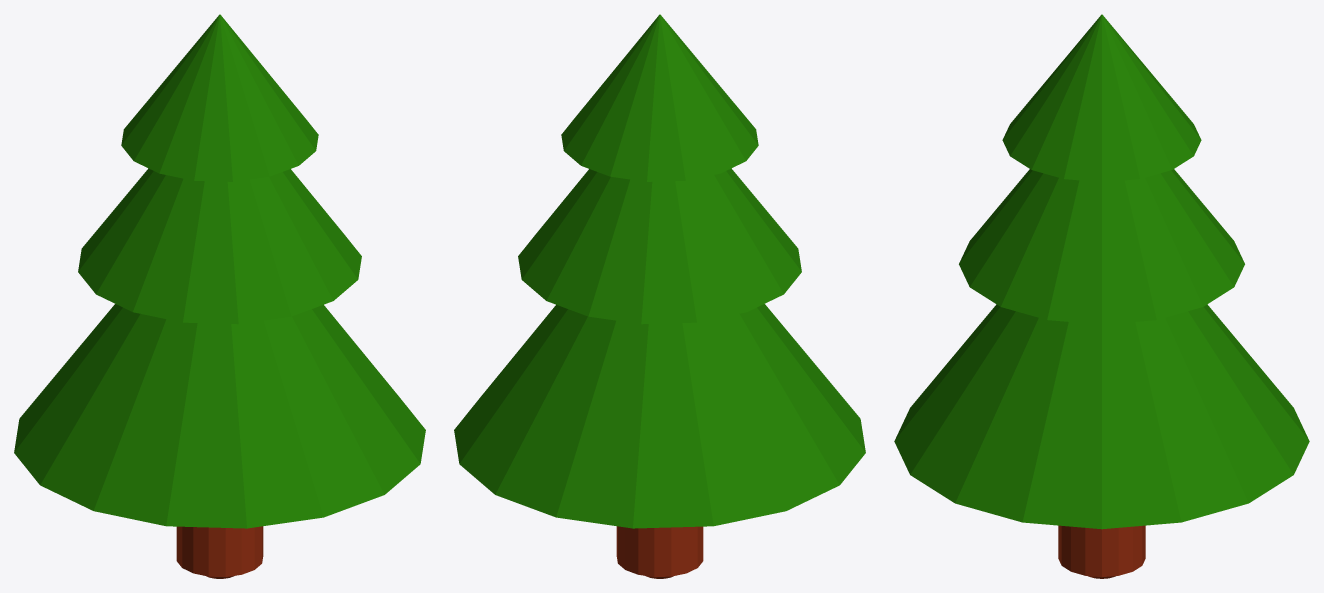
The model's file is G477Finaltree.fbx.
The picture shows the model from 3 angles, left to right: view 1: azimuth 30°, elevation 25°; view 2: azimuth 150°, elevation 25°; view 3: azimuth 270°, elevation 25°; orthographic projection.
Visible parts, largest first — view 1: Cone.002, Cone.004; view 2: Cone.002, Cone.004; view 3: Cone.002, Cone.004.
Part boxes in pixels (x1,y1,x2,y2): Cone.002: [14, 14, 425, 528]; Cone.004: [176, 526, 263, 576]; Cone.002: [454, 14, 865, 528]; Cone.004: [616, 526, 703, 576]; Cone.002: [894, 14, 1309, 529]; Cone.004: [1058, 525, 1145, 577].
Bounding box in the file's own units: 389 × 575 × 389.
